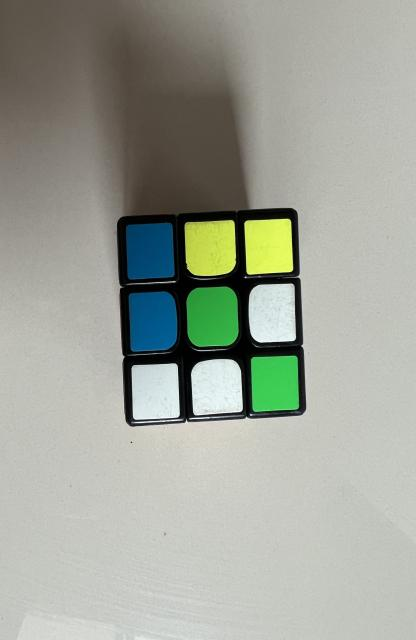Blue: (129, 291, 178, 351), (126, 222, 174, 280)
Green: (186, 286, 238, 348), (251, 355, 299, 411)
White: (191, 359, 243, 416), (248, 284, 296, 342), (131, 364, 180, 420)
Yellow: (184, 220, 236, 276), (245, 219, 294, 275)
